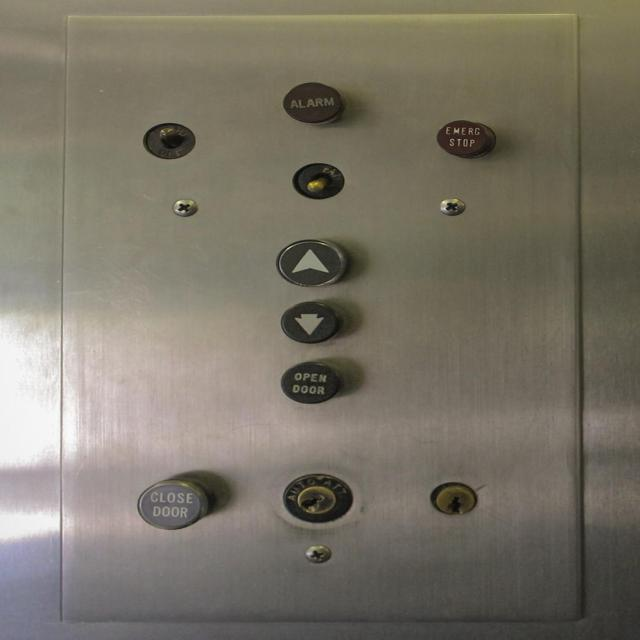down: (276, 297, 344, 344)
keyhole: (280, 472, 354, 524), (430, 481, 480, 518)
switch: (290, 160, 347, 200)
text_alarm bell: (278, 79, 346, 126)
text_close door: (135, 477, 209, 531)
text_emergency: (433, 117, 495, 158)
text_open door: (278, 357, 342, 408)
unknown: (141, 119, 195, 160)
up: (274, 235, 346, 290)
